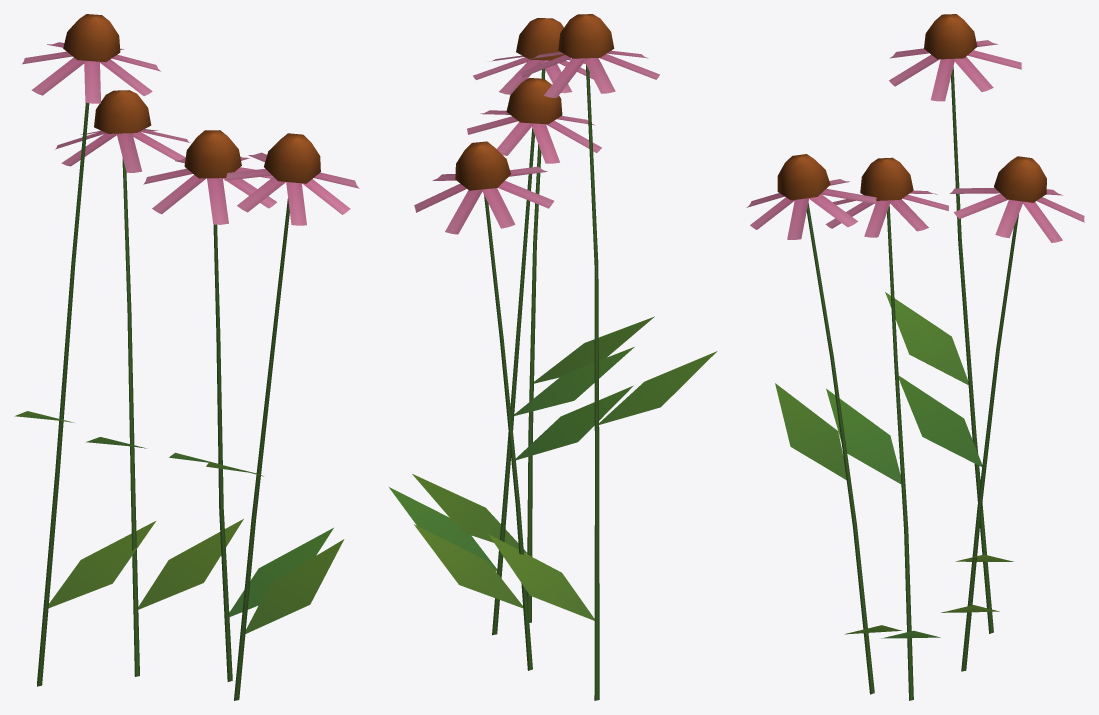
The model's file is flower-coneflower-b.lod1.glb.
The picture shows the model from 3 angles, left to right: view 1: azimuth 30°, elevation 25°; view 2: azimuth 150°, elevation 25°; view 3: azimuth 270°, elevation 25°; orthographic projection. The views are drawn at different scales.
Visible parts, largest first — view 1: flower-coneflower-b.lod1; view 2: flower-coneflower-b.lod1; view 3: flower-coneflower-b.lod1.
Boxes of the visible parts, x1=… form: flower-coneflower-b.lod1: x1=14, y1=14, x2=359, y2=700; flower-coneflower-b.lod1: x1=389, y1=14, x2=717, y2=700; flower-coneflower-b.lod1: x1=746, y1=14, x2=1084, y2=700.
Size of the model in its own units: 0.2991 by 0.6004 by 0.2918.
